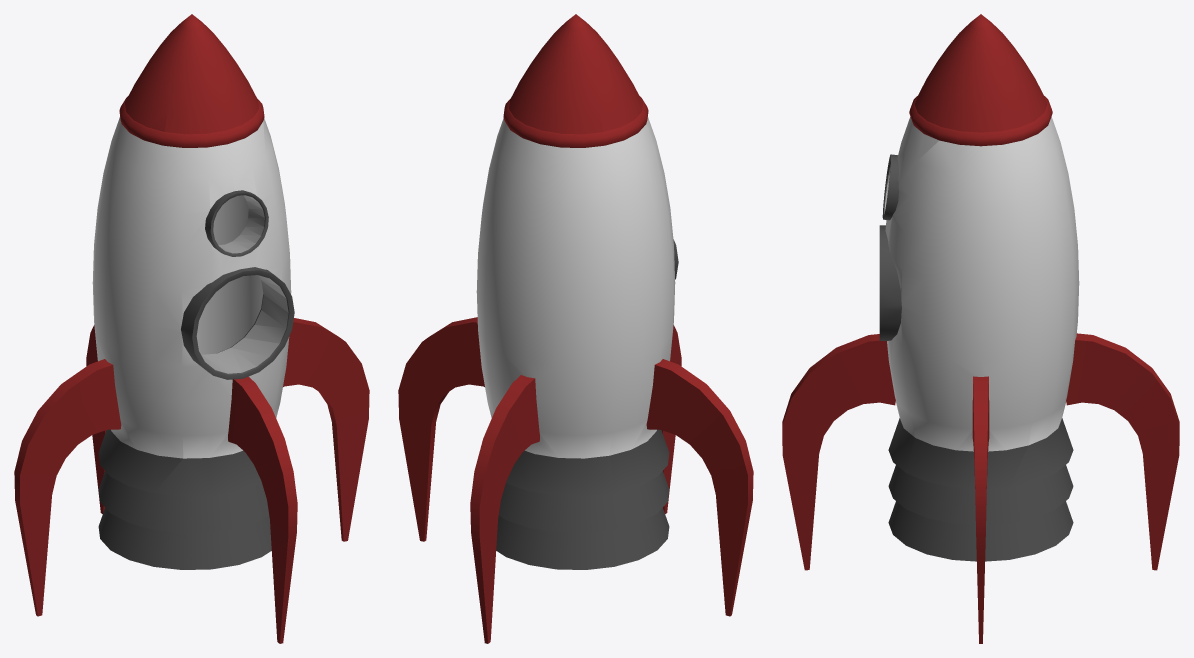
Rendered from Rocket_BG.fbx.
3 views of the same model, side by side, from view 1: azimuth 30°, elevation 25°; view 2: azimuth 150°, elevation 25°; view 3: azimuth 270°, elevation 25° (orthographic).
Parts seen in each view (by area): view 1: pCylinder17; view 2: pCylinder17; view 3: pCylinder17.
Boxes of the visible parts, box(x1,y1,x2,y2) form: pCylinder17: box(14, 14, 369, 643); pCylinder17: box(398, 14, 753, 643); pCylinder17: box(782, 14, 1179, 643).
Size of the model in its own units: 4.05 by 6.24 by 4.05.
